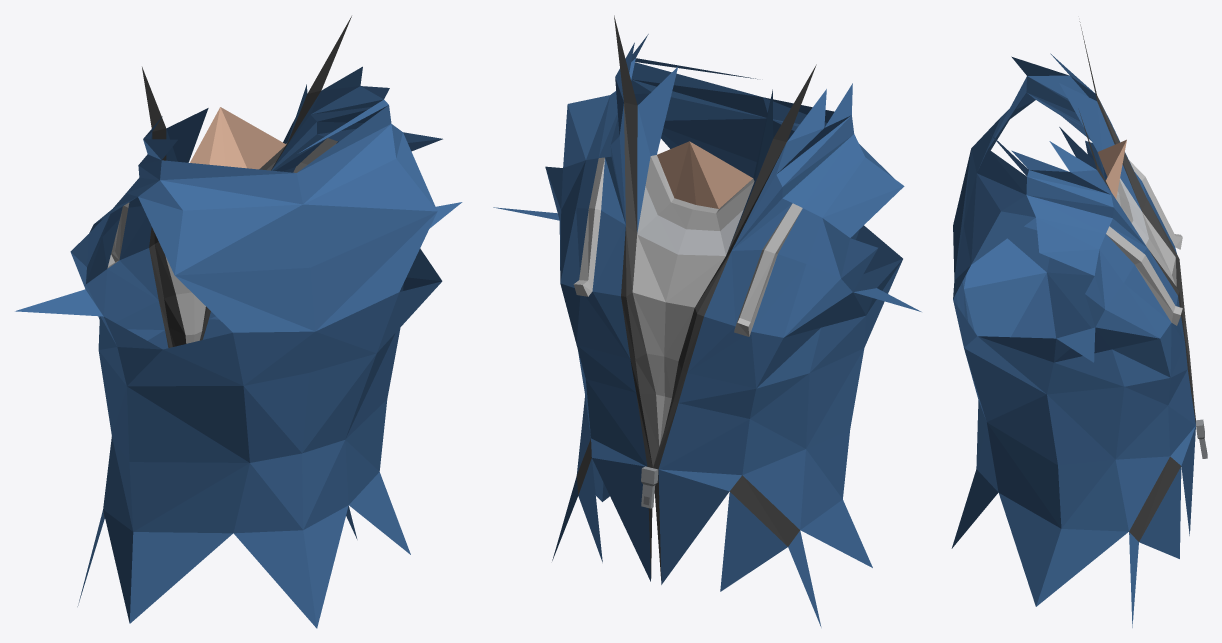
File: Son_01_Torso_0_02_A.obj
3 views of the same model, side by side, from view 1: azimuth 30°, elevation 25°; view 2: azimuth 150°, elevation 25°; view 3: azimuth 270°, elevation 25° (orthographic). The views are drawn at different scales.
Parts seen in each view (by area): view 1: Son_01_Torso_0_02_A; view 2: Son_01_Torso_0_02_A; view 3: Son_01_Torso_0_02_A.
Part boxes in pixels (box(x1,y1,x2,y2)): Son_01_Torso_0_02_A: box(15, 16, 462, 628); Son_01_Torso_0_02_A: box(493, 15, 921, 627); Son_01_Torso_0_02_A: box(951, 21, 1207, 627).
Size of the model in its own units: 0.5821 by 0.6905 by 0.3167.
1 material, 1 textured.
